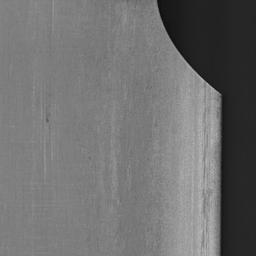Crescent gap: (157, 0, 219, 91)
